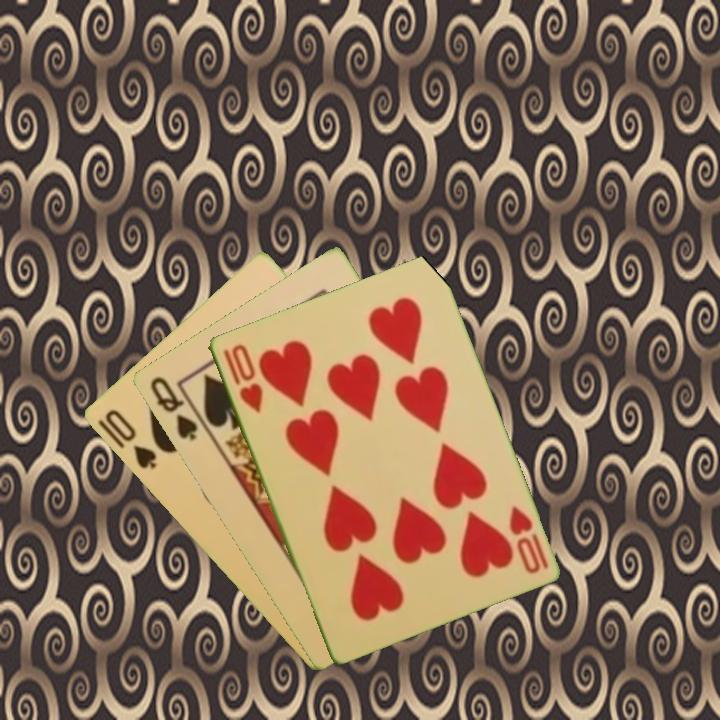10h: (219, 339, 266, 416), (505, 501, 551, 577)
10s: (100, 405, 159, 472)
Qs: (146, 372, 200, 444)
